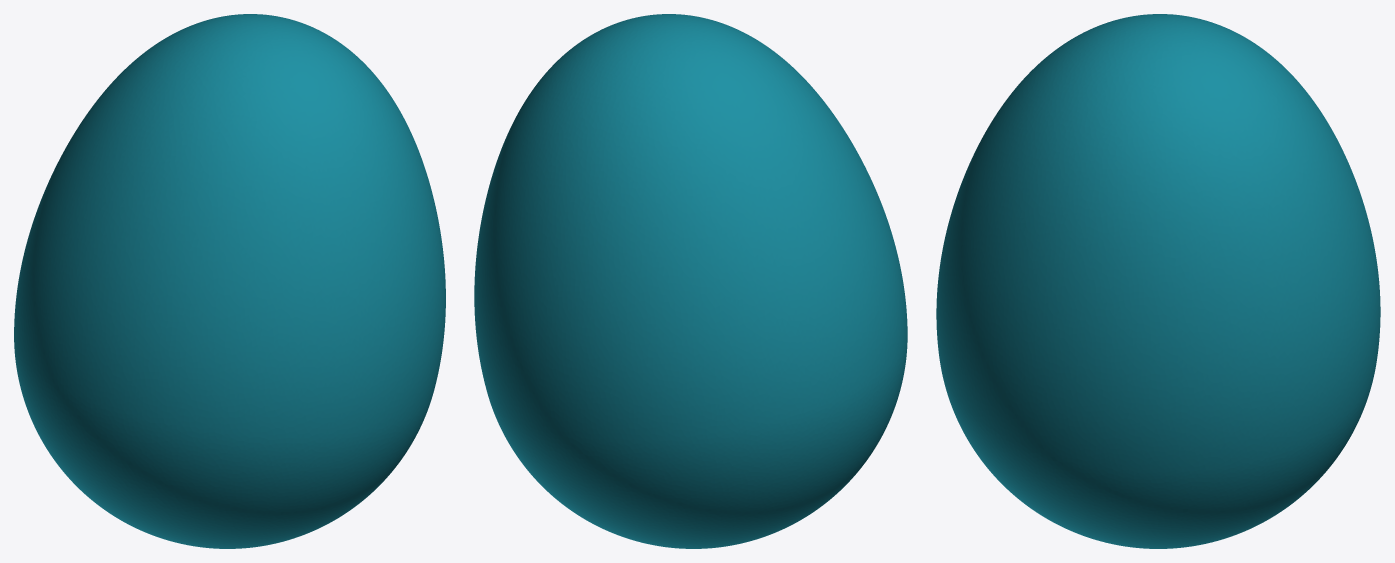
The model's file is rightEye.obj.
3 renders of one model, left to right at view 1: azimuth 30°, elevation 25°; view 2: azimuth 150°, elevation 25°; view 3: azimuth 270°, elevation 25°, orthographic. The views are drawn at different scales.
Visible parts, largest first — view 1: model_8; view 2: model_8; view 3: model_8.
Boxes of the visible parts, left/top/right/bottom form: model_8: left=14, top=14, right=445, bottom=548; model_8: left=474, top=14, right=907, bottom=548; model_8: left=936, top=14, right=1380, bottom=548.
Size of the model in its own units: 121 by 152 by 120.
1 material, 1 textured.
